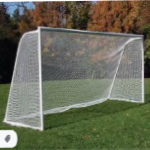goals: (1, 25, 147, 131)
